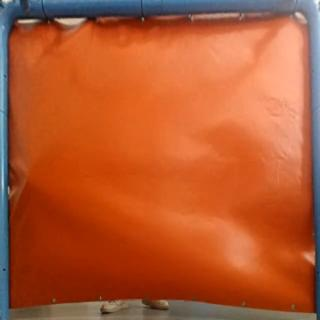Hit-hRxx: (20, 170, 32, 188)
